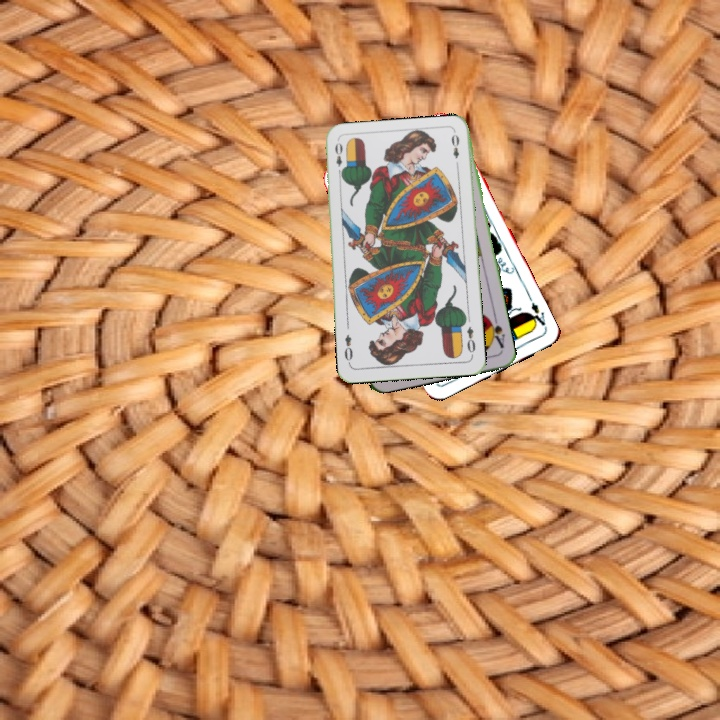EA: (524, 298, 550, 331)
EO: (331, 138, 347, 178), (463, 323, 478, 358)
SA: (483, 312, 507, 351)
